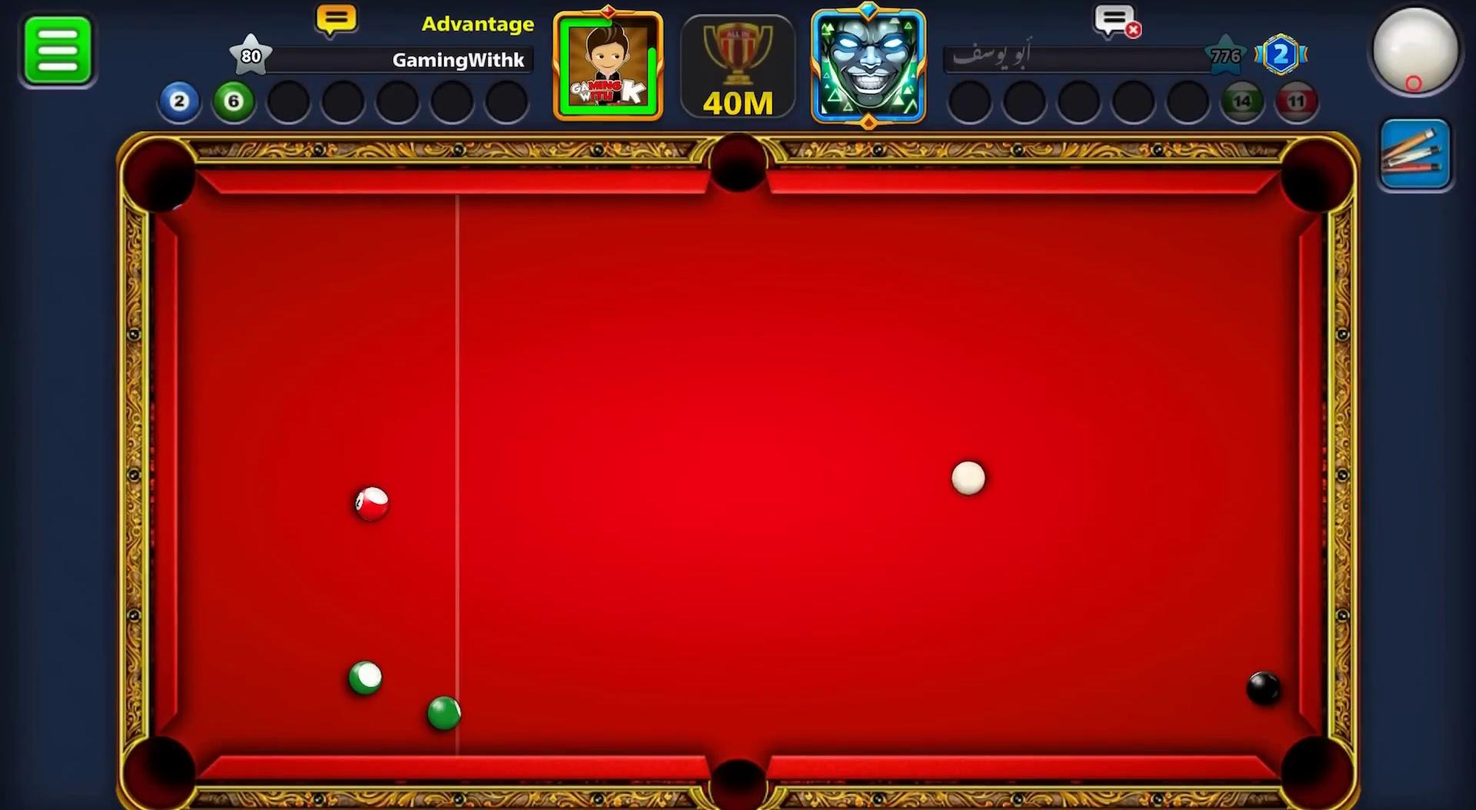Ball: (1238, 662, 1291, 708), (425, 690, 467, 734), (343, 655, 385, 698), (348, 484, 391, 526)
Hole: (107, 718, 224, 809), (1259, 718, 1371, 809), (1277, 136, 1356, 216), (703, 122, 774, 209), (122, 135, 199, 212), (703, 754, 772, 809)
Play_Area: (177, 193, 1296, 755)
Spin: (1362, 0, 1475, 109)
White: (947, 455, 991, 504)
